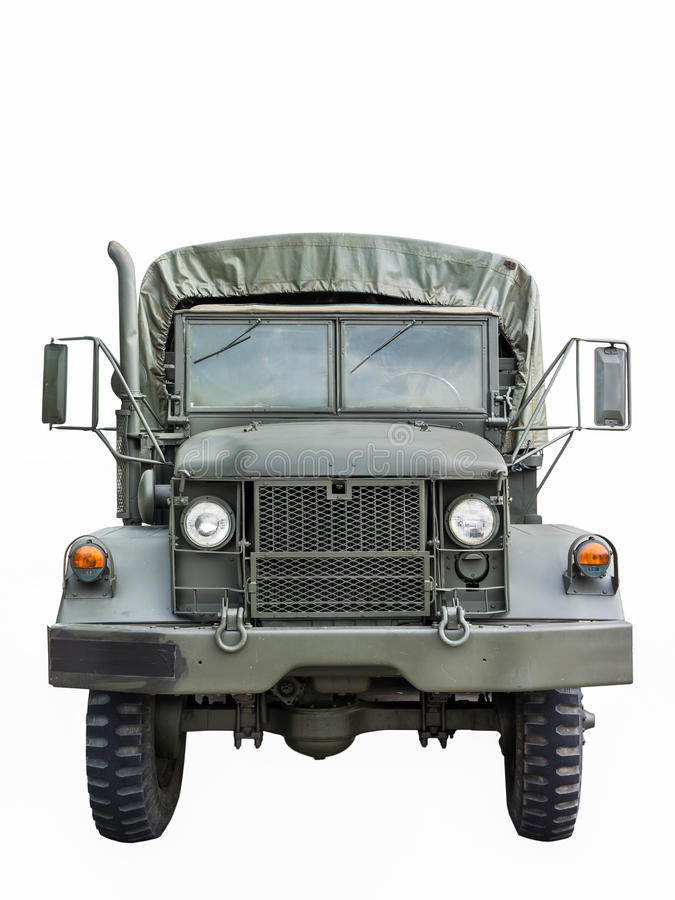camion: (36, 224, 636, 832)
